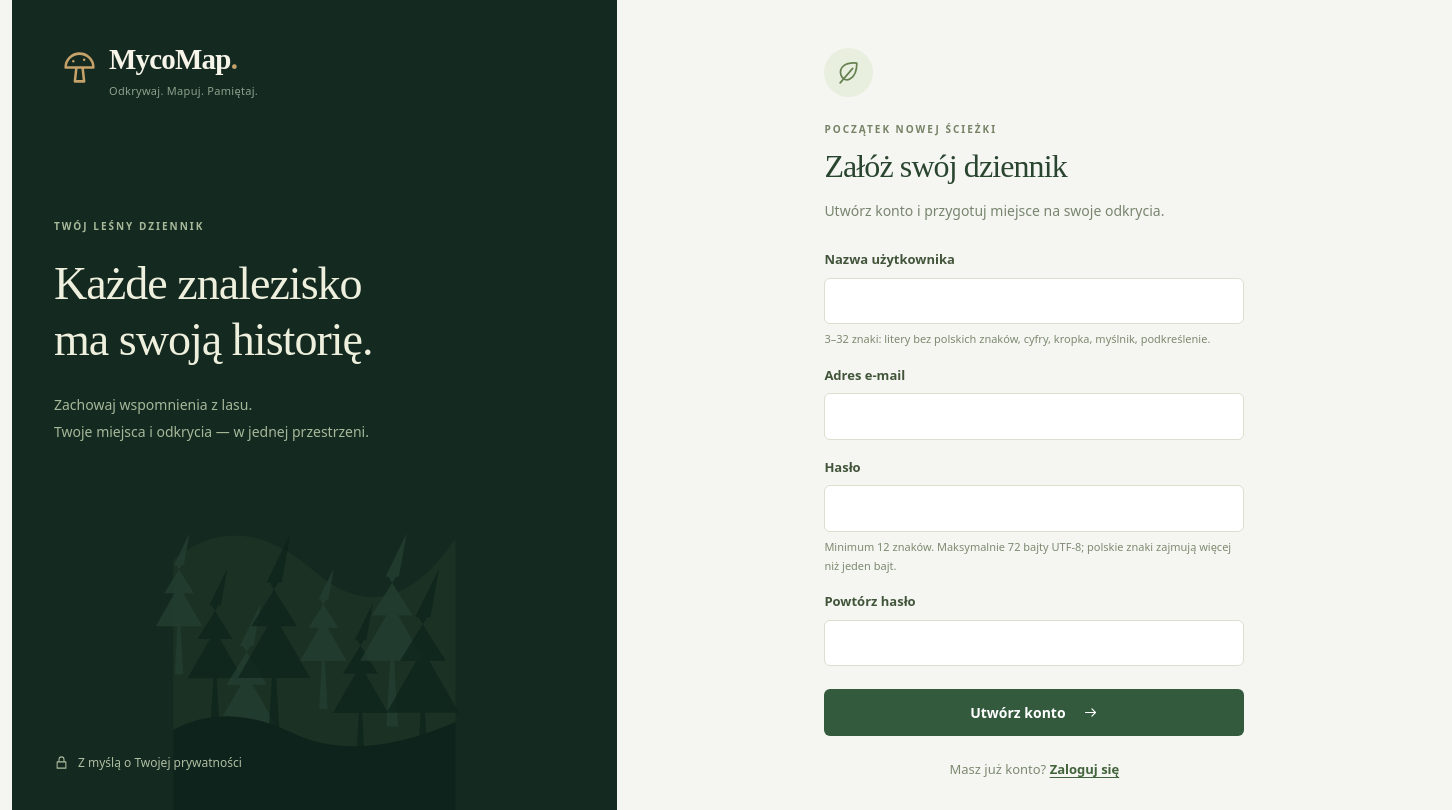
Test: nie wysyła rejestracji, jeżeli potwierdzenie hasła jest inne
Type "NowyStudent" into the field labelled "Nazwa użytkownika" at [1034, 301], box [824,278,1244,324]
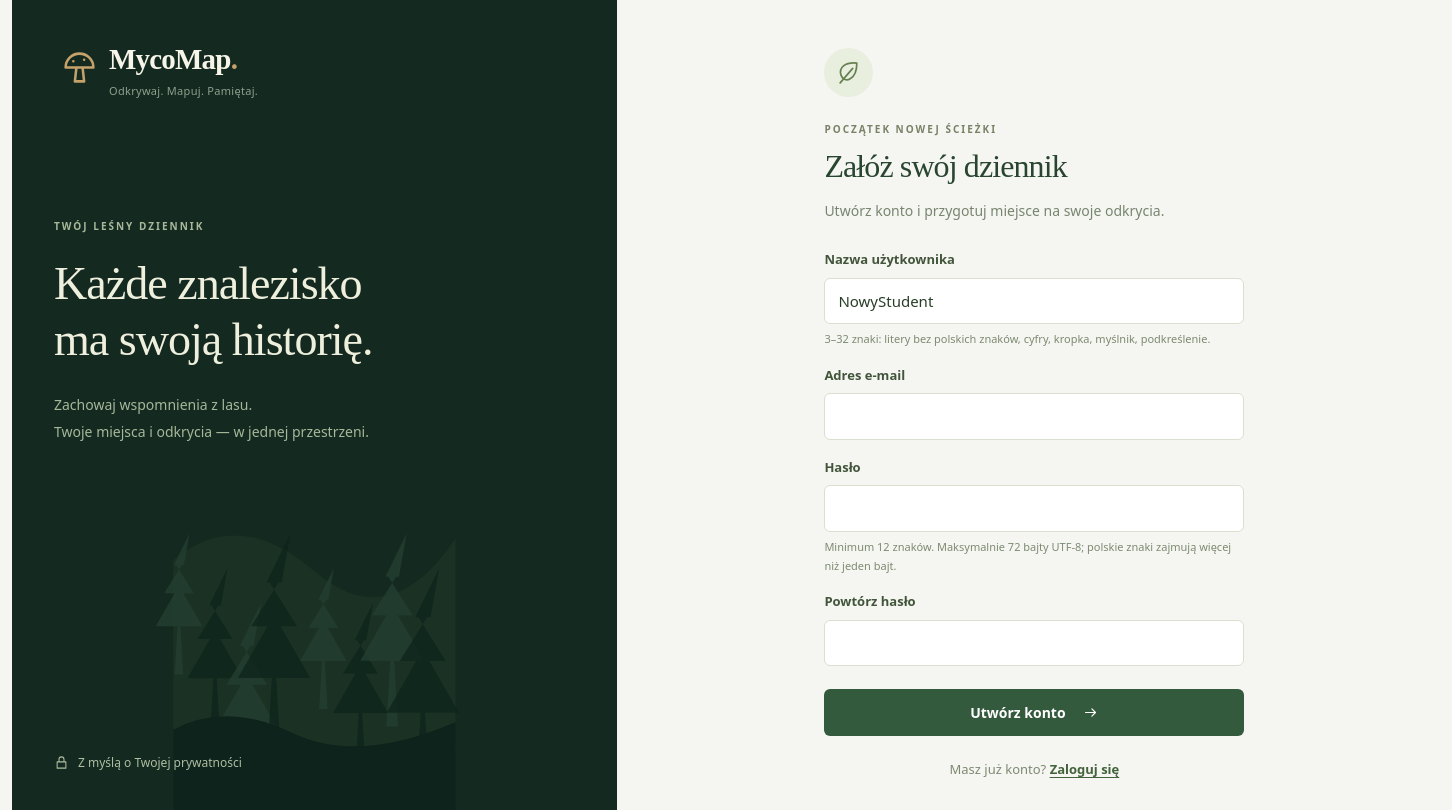
Type "new@example.com" into the field labelled "Adres e-mail" at [1034, 417], box [824,393,1244,440]
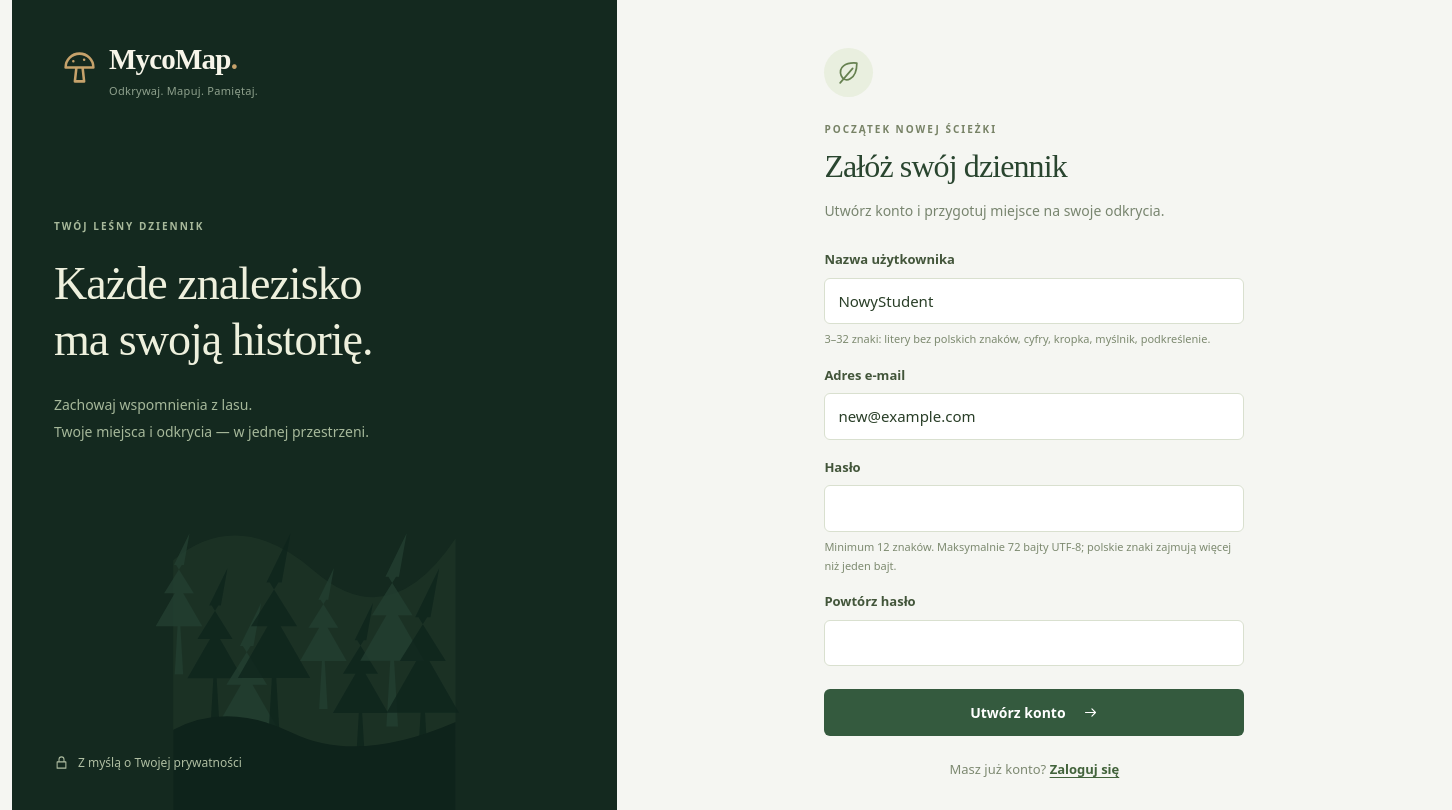
Type "Lesna-wyprawa-2026" into the password field labelled "Hasło" at [1034, 509], box [824,485,1244,532]
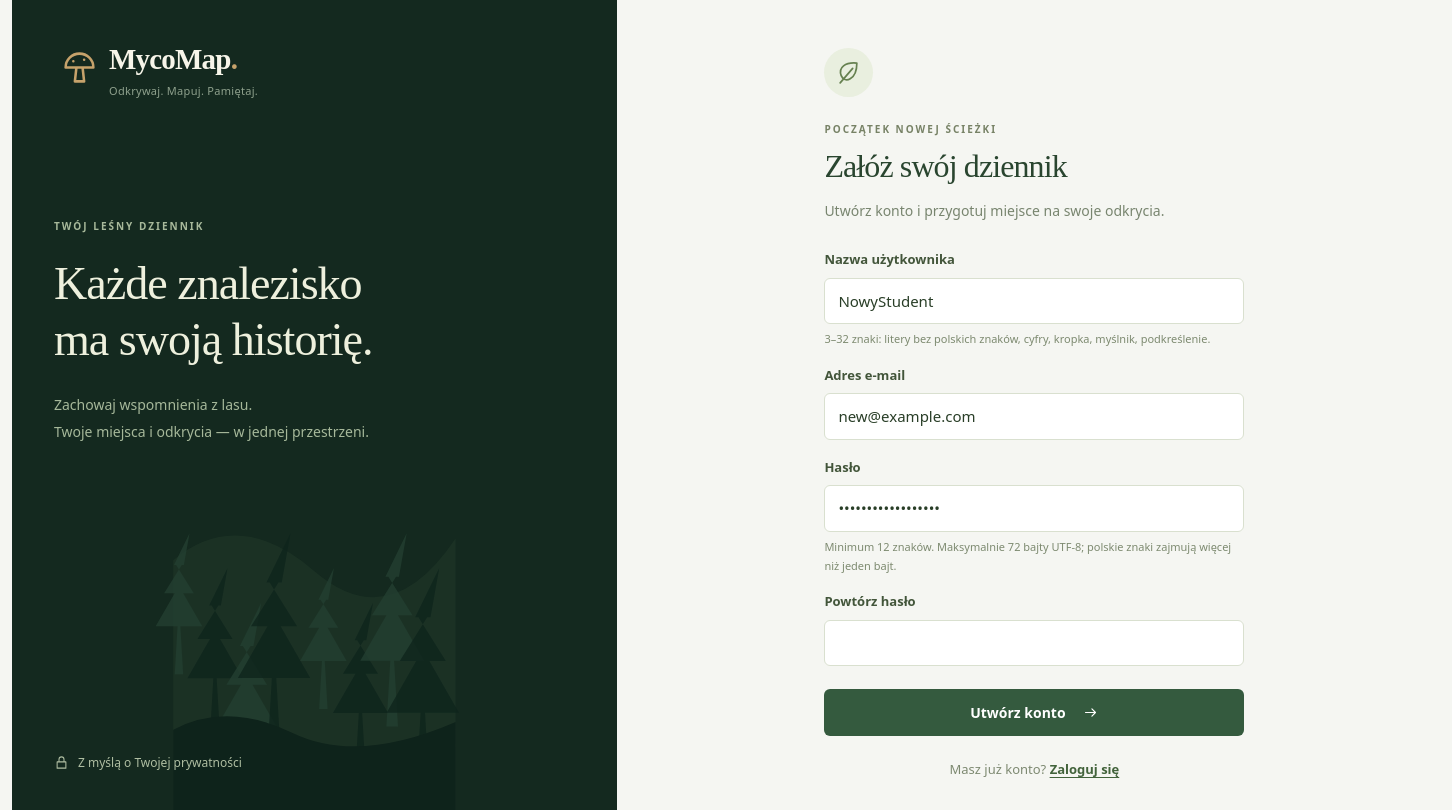
Type "Inne-haslo-2026" into the password field labelled "Powtórz hasło" at [1034, 643], box [824,620,1244,666]
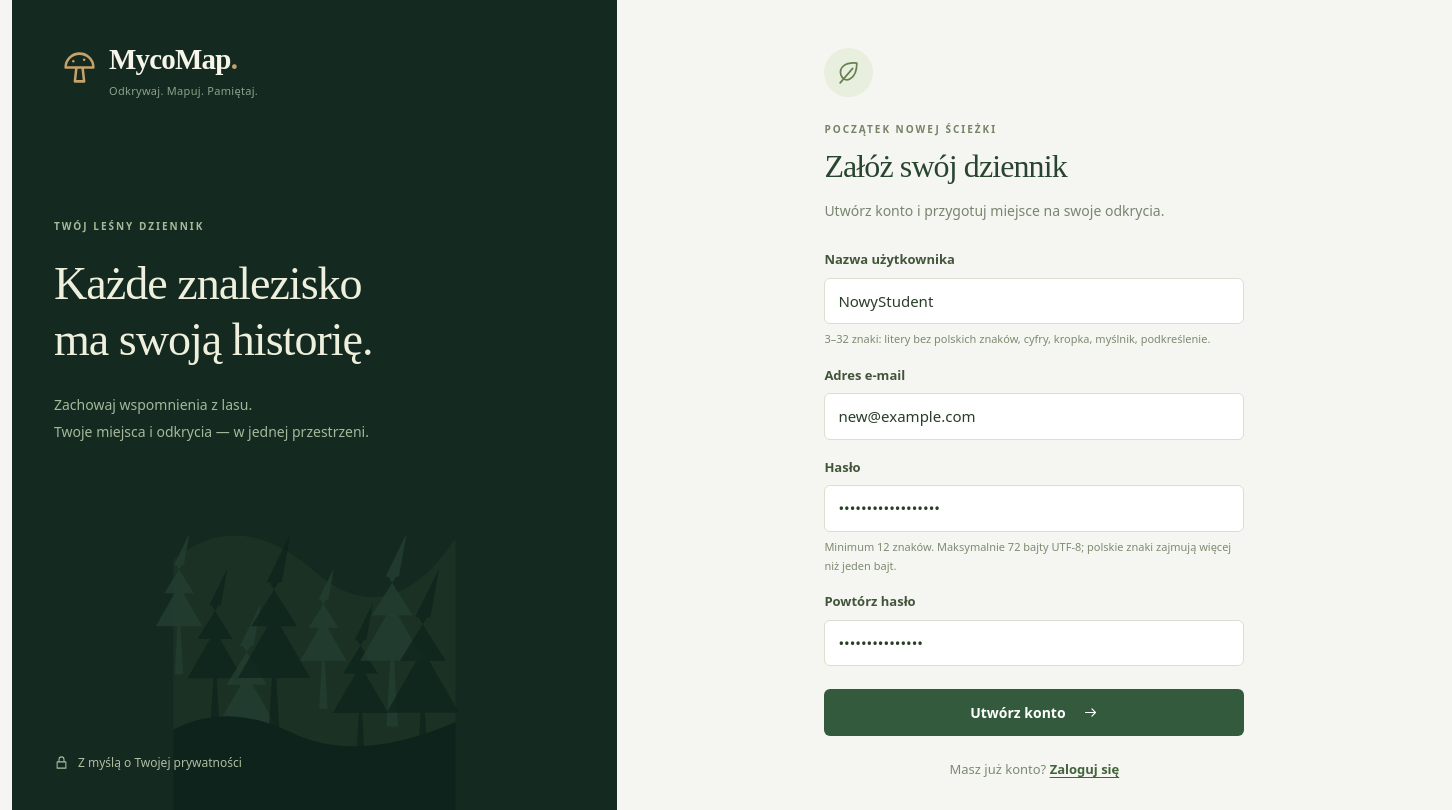
Submit the form named "Utwórz konto", box [824,250,1244,736]
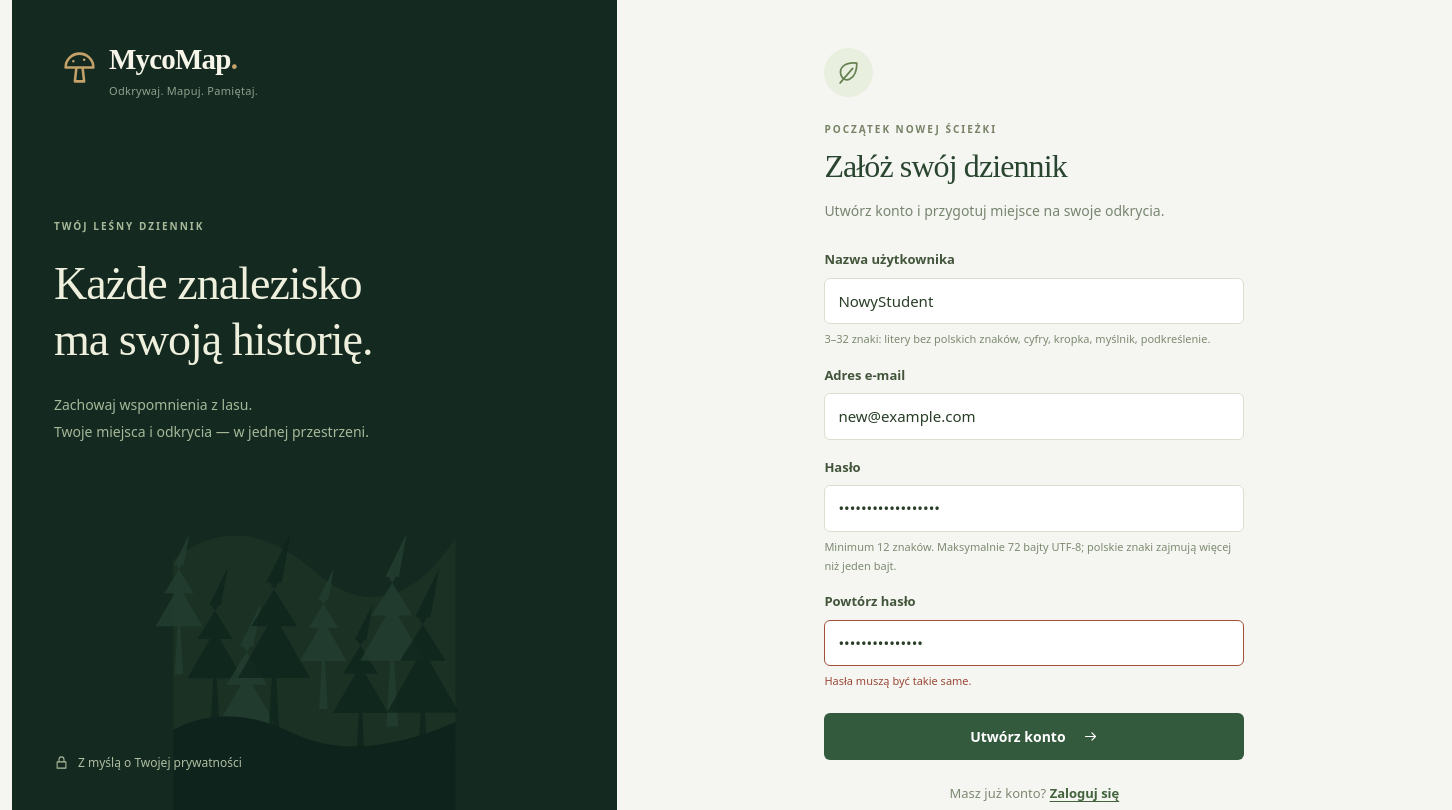
Result: the text "Hasła muszą być takie same." is shown at [824,673,972,688]
